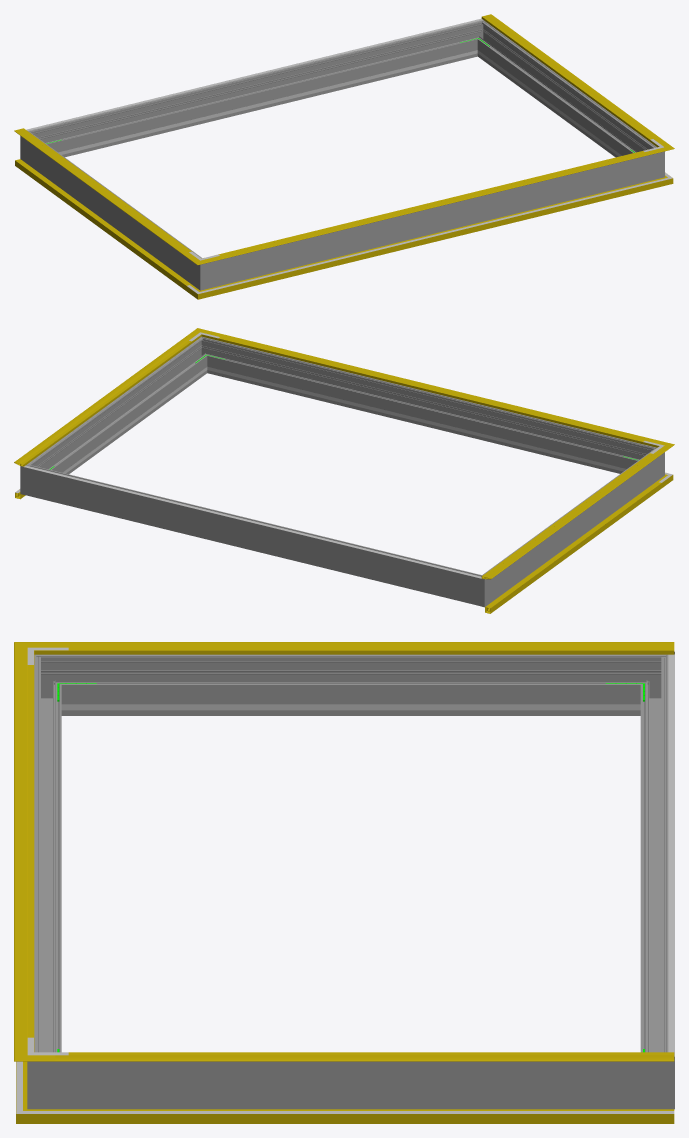
The picture shows the model from 3 angles, top to bottom: view 1: azimuth 30°, elevation 25°; view 2: azimuth 150°, elevation 25°; view 3: azimuth 270°, elevation 25°; orthographic projection. The views are drawn at different scales.
Visible parts, largest first — view 1: 3DGeom-276, 3DGeom-298, 3DGeom-297, 3DGeom-268, 3DGeom-11, 3DGeom-141, 3DGeom-145, 3DGeom-244, 3DGeom-6, 3DGeom-147, 3DGeom-220, 3DGeom-20 (+8 smaller); view 2: 3DGeom-298, 3DGeom-276, 3DGeom-297, 3DGeom-268, 3DGeom-141, 3DGeom-145, 3DGeom-239, 3DGeom-6, 3DGeom-147, 3DGeom-220, 3DGeom-158, 3DGeom-278 (+6 smaller); view 3: 3DGeom-268, 3DGeom-297, 3DGeom-276, 3DGeom-298, 3DGeom-16, 3DGeom-147, 3DGeom-141, 3DGeom-145, 3DGeom-232, 3DGeom-220, 3DGeom-158, 3DGeom-152 (+6 smaller).
Boxes of the visible parts, x1,y1,x2,y2 form: 3DGeom-276: (42, 24, 474, 157); 3DGeom-298: (220, 156, 644, 285); 3DGeom-297: (479, 27, 649, 157); 3DGeom-268: (31, 138, 194, 281); 3DGeom-11: (215, 181, 653, 294); 3DGeom-141: (214, 150, 654, 260); 3DGeom-145: (481, 14, 662, 144); 3DGeom-244: (65, 55, 458, 153); 3DGeom-6: (15, 159, 191, 290); 3DGeom-147: (14, 129, 191, 256); 3DGeom-220: (26, 18, 482, 130); 3DGeom-20: (216, 182, 652, 289); 3DGeom-298: (210, 340, 642, 473); 3DGeom-276: (40, 468, 468, 602); 3DGeom-297: (35, 343, 205, 474); 3DGeom-268: (490, 454, 653, 598); 3DGeom-141: (211, 333, 654, 445); 3DGeom-145: (14, 336, 195, 466); 3DGeom-239: (226, 371, 619, 470); 3DGeom-6: (485, 481, 661, 613); 3DGeom-147: (481, 451, 662, 579); 3DGeom-220: (23, 465, 481, 578); 3DGeom-158: (218, 337, 644, 441); 3DGeom-278: (465, 569, 496, 607); 3DGeom-268: (68, 654, 633, 715); 3DGeom-297: (68, 1061, 633, 1109); 3DGeom-276: (640, 669, 668, 1052); 3DGeom-298: (34, 669, 61, 1052); 3DGeom-16: (57, 1109, 674, 1123); 3DGeom-147: (55, 642, 674, 654); 3DGeom-141: (14, 659, 34, 1043); 3DGeom-145: (55, 1055, 674, 1061); 3DGeom-232: (101, 704, 600, 710); 3DGeom-220: (668, 654, 674, 1056); 3DGeom-158: (27, 665, 33, 1037); 3DGeom-152: (68, 1052, 674, 1055).
Size of the model in its own units: 3.66 by 0.2596 by 2.44.
